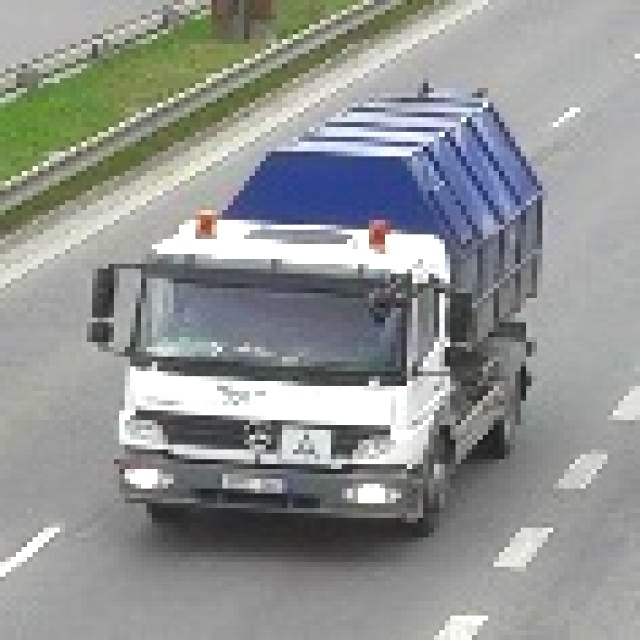truck: (52, 74, 571, 541)
